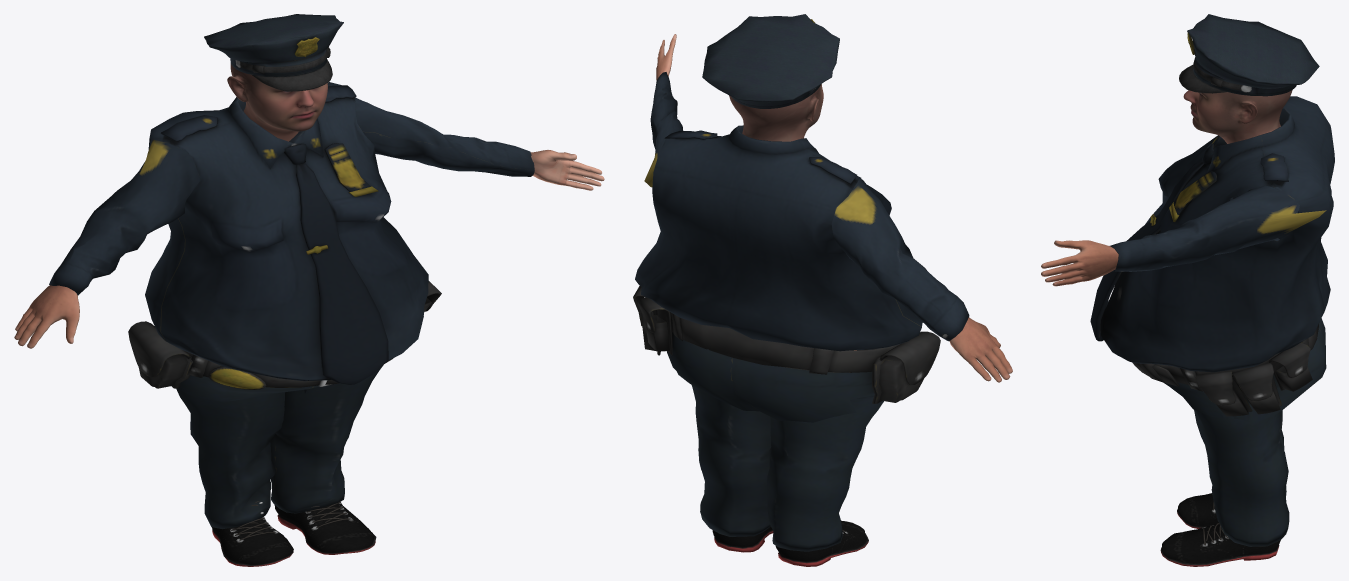
File: JefeGorgoryGlitch6.obj
The picture shows the model from 3 angles, left to right: view 1: azimuth 30°, elevation 25°; view 2: azimuth 150°, elevation 25°; view 3: azimuth 270°, elevation 25°; orthographic projection. The views are drawn at different scales.
Visible parts, largest first — view 1: dikkewout_001, PiernaIzq, PiernaDer, BrazoDer, Cabeza2, BrazoIzq; view 2: dikkewout_001, PiernaIzq, Cabeza2, BrazoDer, PiernaDer, BrazoIzq; view 3: dikkewout_001, PiernaDer, Cabeza2, BrazoIzq, PiernaIzq.
Part boxes in pixels (<box>): dikkewout_001: <box>128,82,441,401</box>; PiernaIzq: <box>176,388,293,566</box>; PiernaDer: <box>270,364,383,554</box>; BrazoDer: <box>14,139,200,348</box>; Cabeza2: <box>204,14,343,141</box>; BrazoIzq: <box>354,98,604,190</box>; dikkewout_001: <box>633,125,940,422</box>; PiernaIzq: <box>767,397,883,566</box>; Cabeza2: <box>702,14,839,141</box>; BrazoDer: <box>831,176,1012,382</box>; PiernaDer: <box>691,384,773,552</box>; BrazoIzq: <box>644,34,683,187</box>; dikkewout_001: <box>1090,96,1334,423</box>; PiernaDer: <box>1160,410,1289,566</box>; Cabeza2: <box>1179,14,1319,143</box>; BrazoIzq: <box>1041,185,1326,286</box>; PiernaIzq: <box>1177,430,1286,528</box>.
Bounding box in the file's own units: 54.84 × 57.85 × 30.49.
